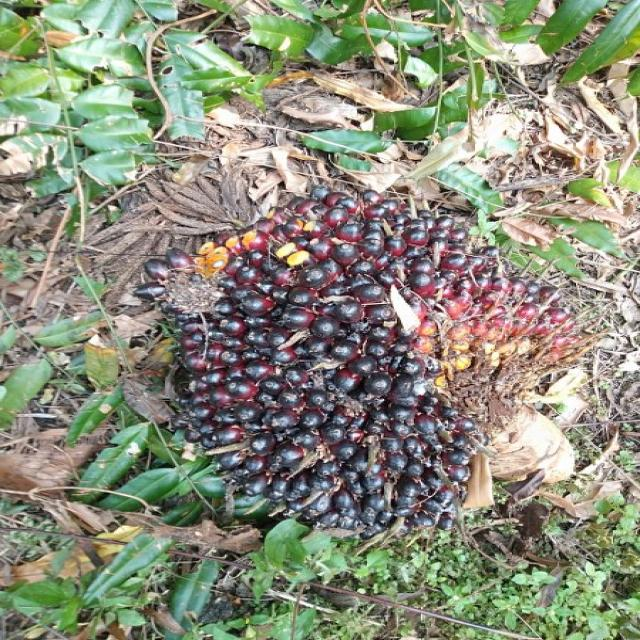fraksi 00: (164, 185, 582, 533)
